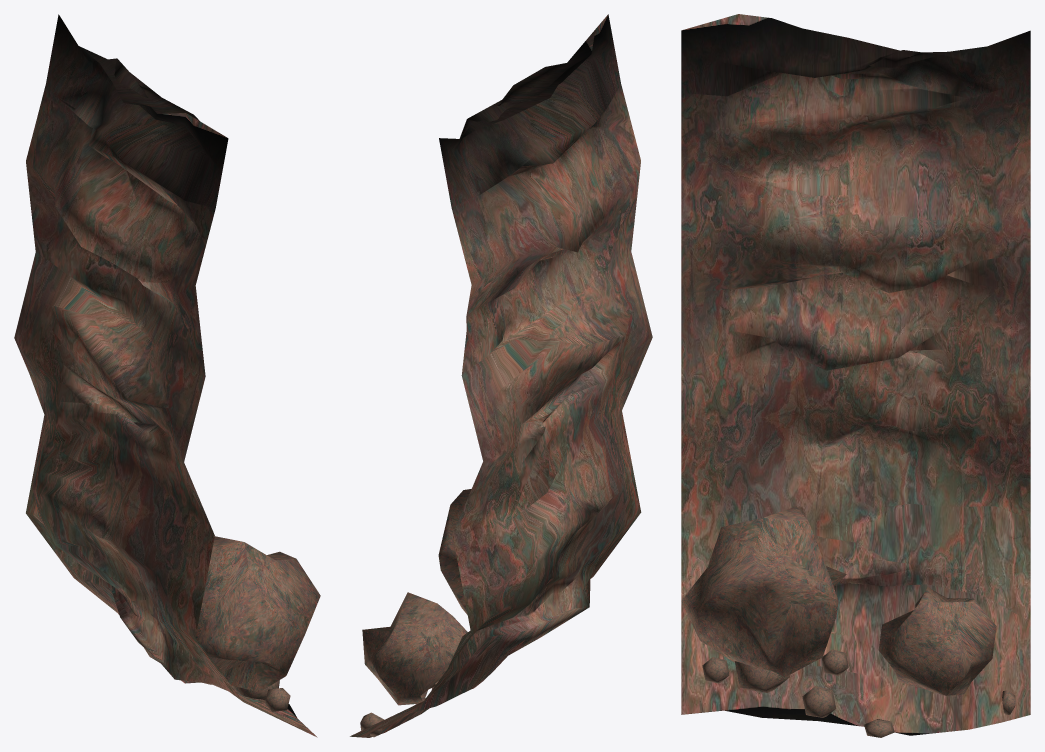
File: cave_walls_straight1.glb
3 views of the same model, side by side, from view 1: azimuth 30°, elevation 25°; view 2: azimuth 150°, elevation 25°; view 3: azimuth 270°, elevation 25° (orthographic). The views are drawn at different scales.
Parts seen in each view (by area): view 1: cave_straight1-col; view 2: cave_straight1-col; view 3: cave_straight1-col.
Boxes of the visible parts, <box> form: cave_straight1-col: <box>14,14,320,737</box>; cave_straight1-col: <box>350,14,652,737</box>; cave_straight1-col: <box>681,14,1030,737</box>.
Bounding box in the file's own units: 1.23 × 4.22 × 2.
2 materials, 2 textured.
